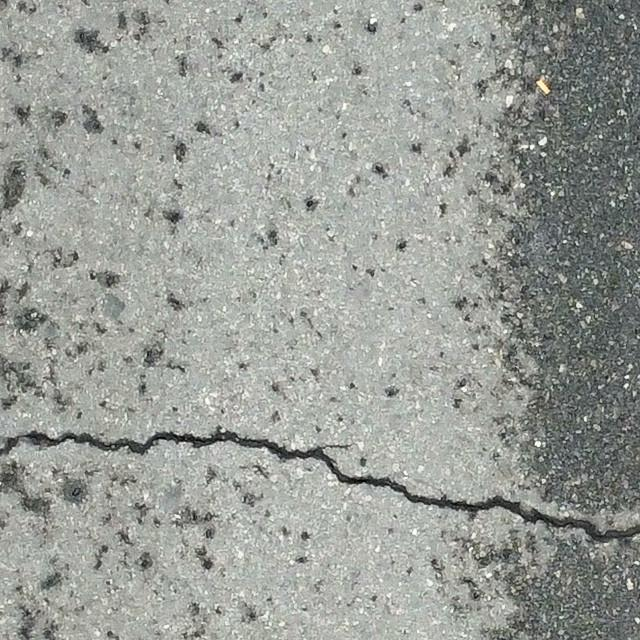TransverseCrack: (1, 426, 640, 542)
